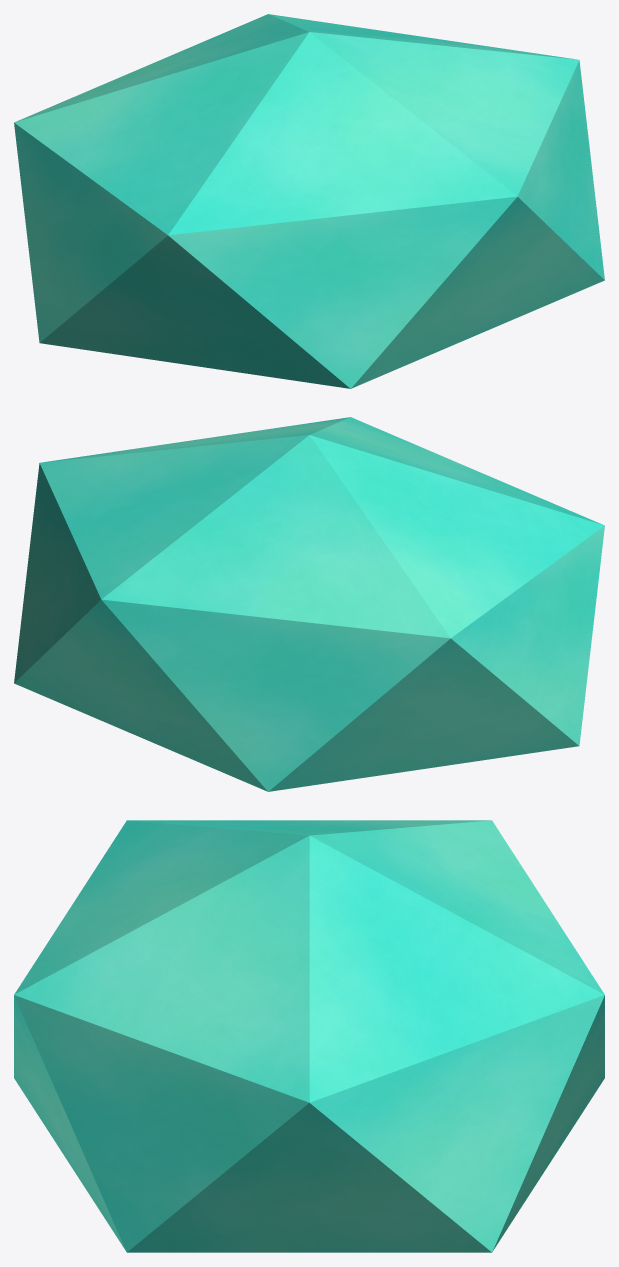
Rendered from sea_glass-D2yNgAjD.glb.
The picture shows the model from 3 angles, top to bottom: view 1: azimuth 30°, elevation 25°; view 2: azimuth 150°, elevation 25°; view 3: azimuth 270°, elevation 25°; orthographic projection. The views are drawn at different scales.
Visible parts, largest first — view 1: HI_sea_glass; view 2: HI_sea_glass; view 3: HI_sea_glass.
Boxes of the visible parts, box(x1,y1,x2,y2) form: HI_sea_glass: box(14, 14, 604, 388); HI_sea_glass: box(14, 417, 604, 791); HI_sea_glass: box(14, 820, 604, 1252).
Bounding box in the file's own units: 0.25 × 0.12 × 0.2.
Materials: 1 (1 with a texture image).
